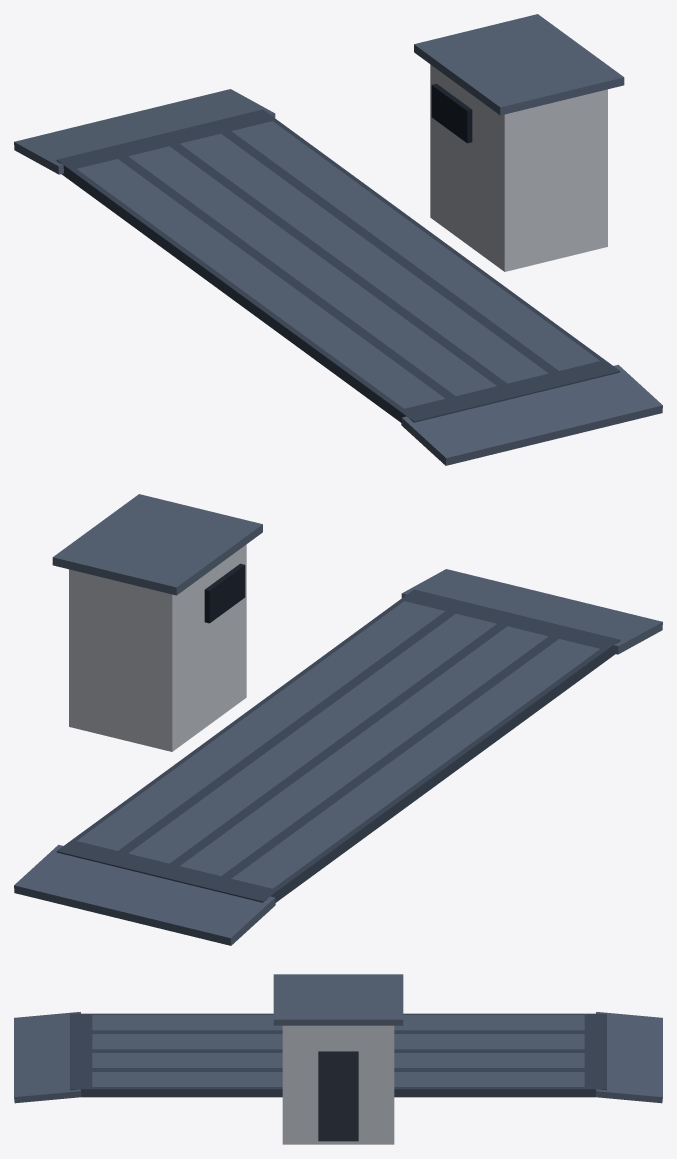
The model's file is yard-weight-scale-body-crafted-surface.glb.
3 renders of one model, top to bottom at view 1: azimuth 30°, elevation 25°; view 2: azimuth 150°, elevation 25°; view 3: azimuth 270°, elevation 25°, orthographic. The views are drawn at different scales.
Parts seen in each view (by area): view 1: Authored shadows false:false; view 2: Authored shadows false:false; view 3: Authored shadows false:false.
Part boxes in pixels (<box>): Authored shadows false:false: <box>14,14,662,465</box>; Authored shadows false:false: <box>14,494,662,945</box>; Authored shadows false:false: <box>14,974,662,1144</box>.
Size of the model in its own units: 0.4687 by 0.2257 by 1.
